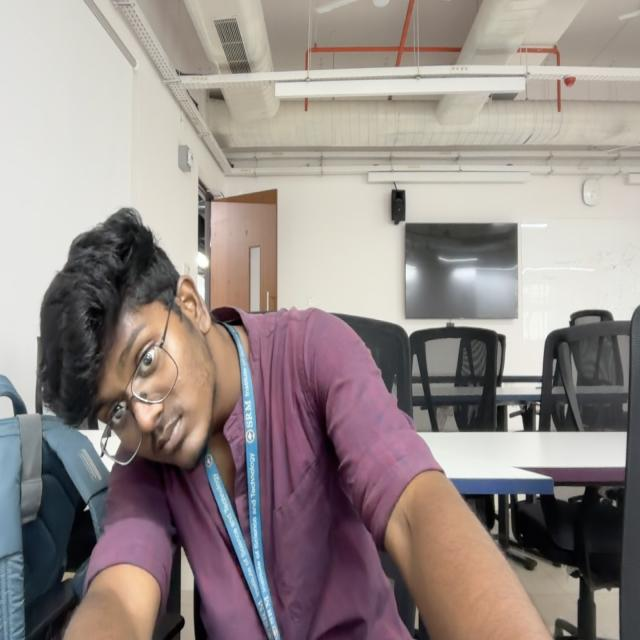ravindra: (36, 210, 218, 472)
